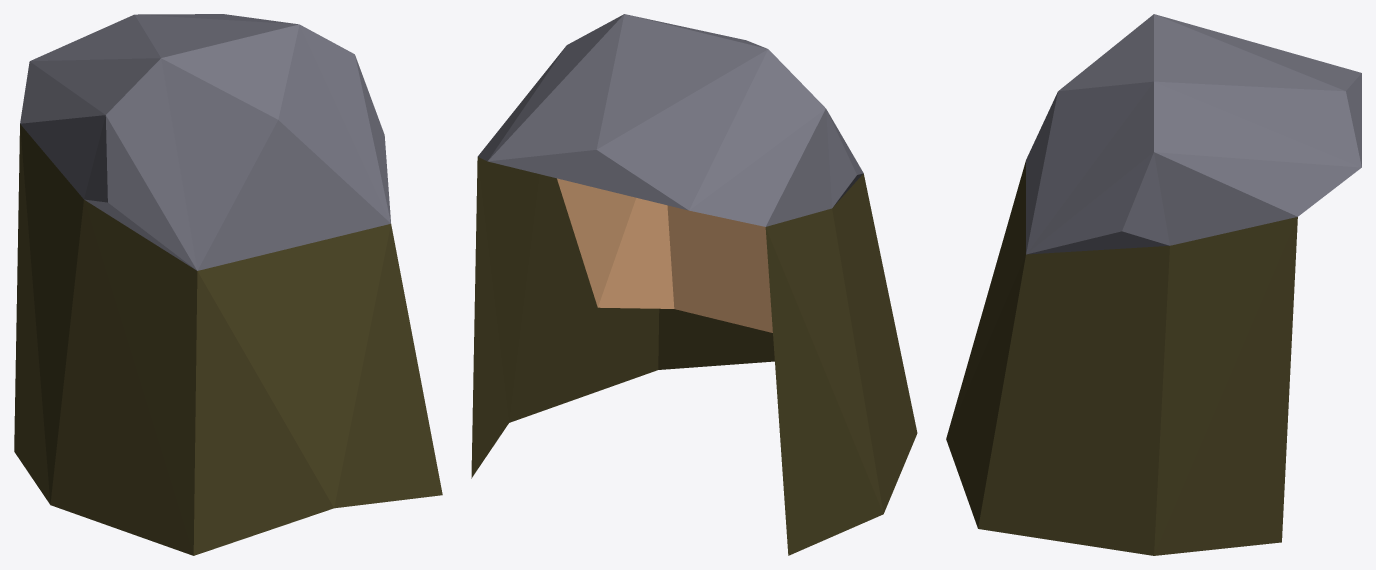
Rendered from inv_leather_cowl.obj.
3 views of the same model, side by side, from view 1: azimuth 30°, elevation 25°; view 2: azimuth 150°, elevation 25°; view 3: azimuth 270°, elevation 25° (orthographic). The views are drawn at different scales.
Bounding box in the file's own units: 0.2031 × 0.2266 × 0.2031.
